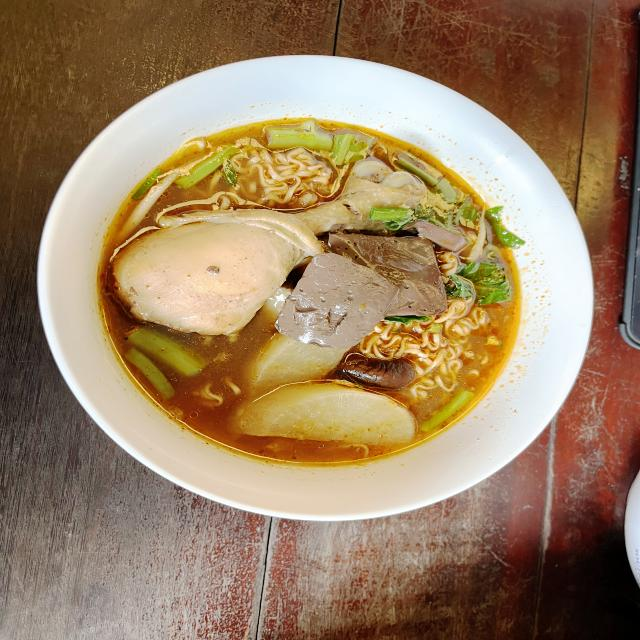boiled_chicken_blood_jelly: (276, 251, 390, 348), (328, 230, 442, 313)
chicken_drumstick: (109, 159, 424, 338)
daikon_radish: (236, 383, 418, 443), (256, 340, 336, 386)
noodle: (95, 112, 532, 470)
